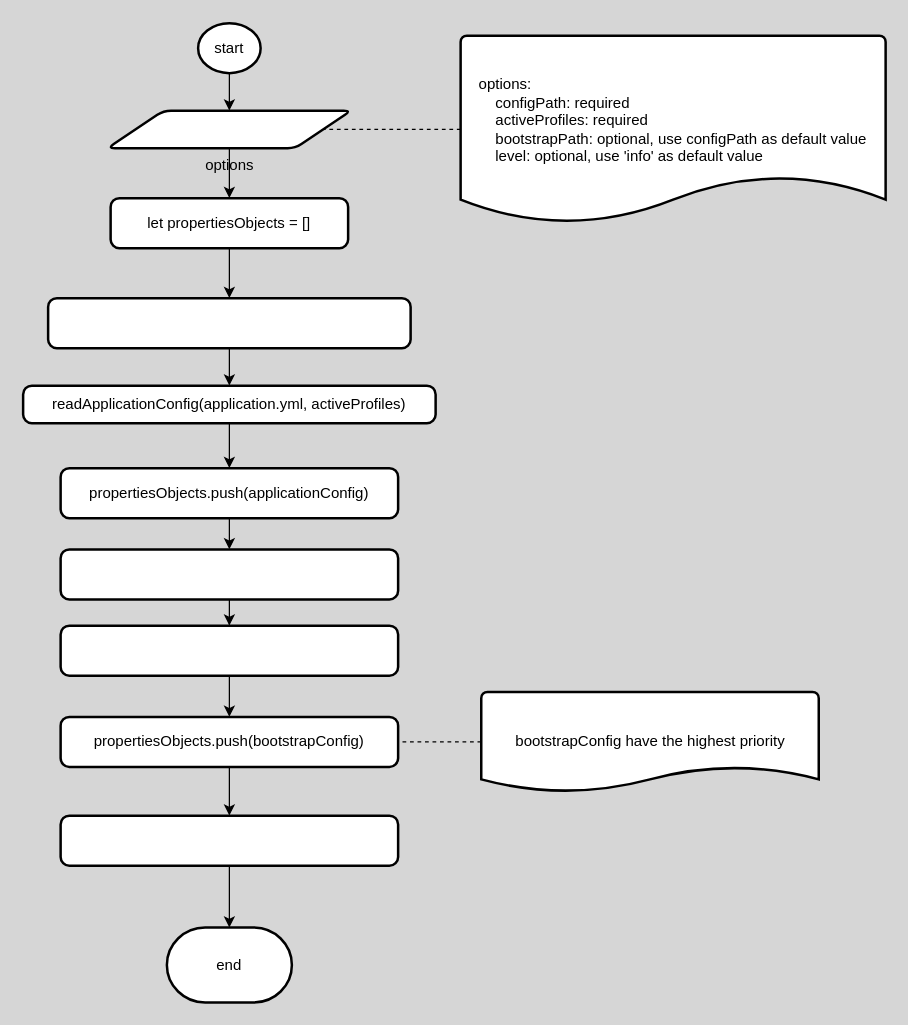
This 908x1025 diagram has some shape labels left out. Here are the shapes that lost their labels. From the top down, the centre of each, then its label:
At point 228,322: "readBootstrapConfig(bootstrap.yml, activeProfiles)".
At point 229,574: "readCloudConfig(bootstrapConfig)".
At point 229,650: "propertiesObjects.push(cloudConfig)".
At point 229,840: "mergeProperties(propertiesObjects)".
